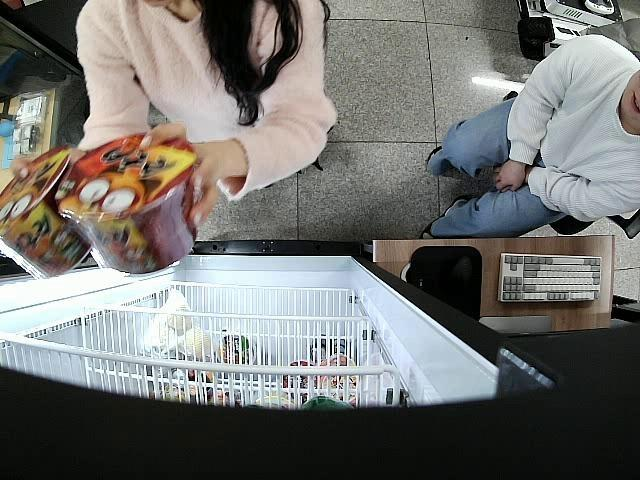05_nuguri_L: (55, 132, 201, 275), (0, 146, 94, 280)
